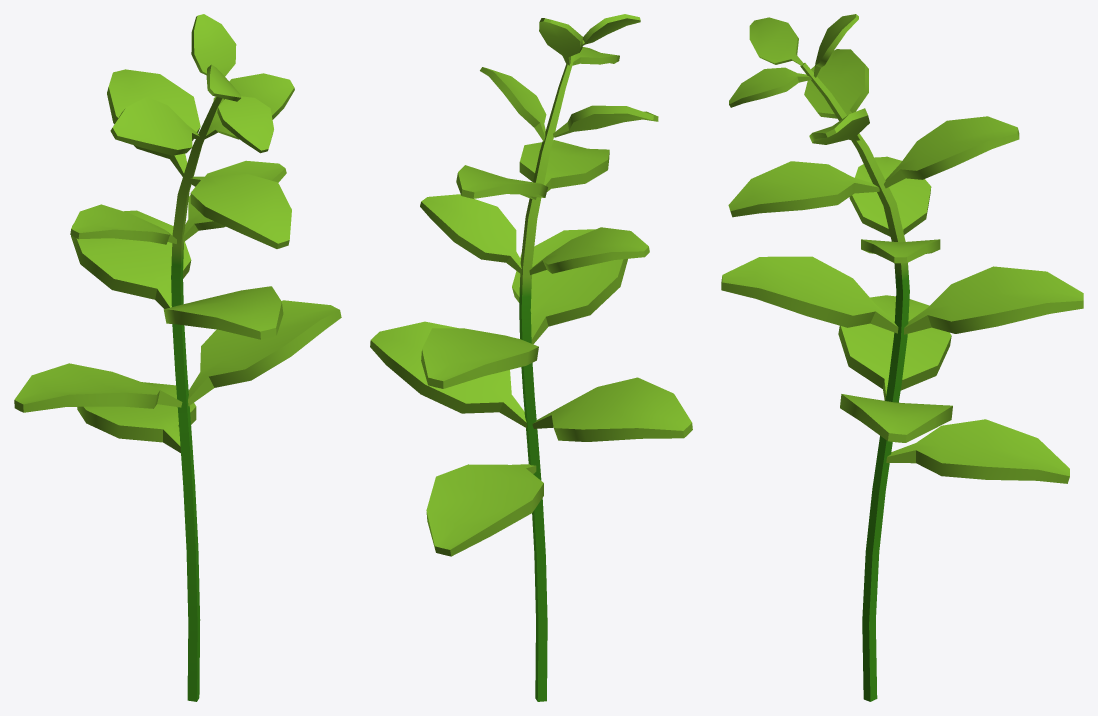
File: garnish-mint.fbx
3 renders of one model, left to right at view 1: azimuth 30°, elevation 25°; view 2: azimuth 150°, elevation 25°; view 3: azimuth 270°, elevation 25°, orthographic. The views are drawn at different scales.
Visible parts, largest first — view 1: garnish_mint; view 2: garnish_mint; view 3: garnish_mint.
Boxes of the visible parts, bbox=[...] form: garnish_mint: bbox=[14, 14, 341, 701]; garnish_mint: bbox=[370, 14, 692, 701]; garnish_mint: bbox=[721, 14, 1083, 701].
Size of the model in its own units: 0.0413 by 0.0852 by 0.0409.
